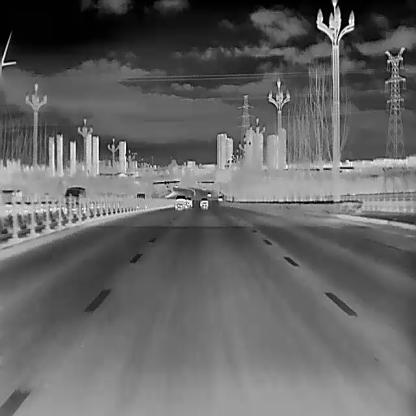car: (64, 185, 86, 207), (174, 194, 186, 210), (199, 197, 207, 208), (185, 196, 191, 206), (216, 193, 223, 201), (206, 190, 210, 196)
